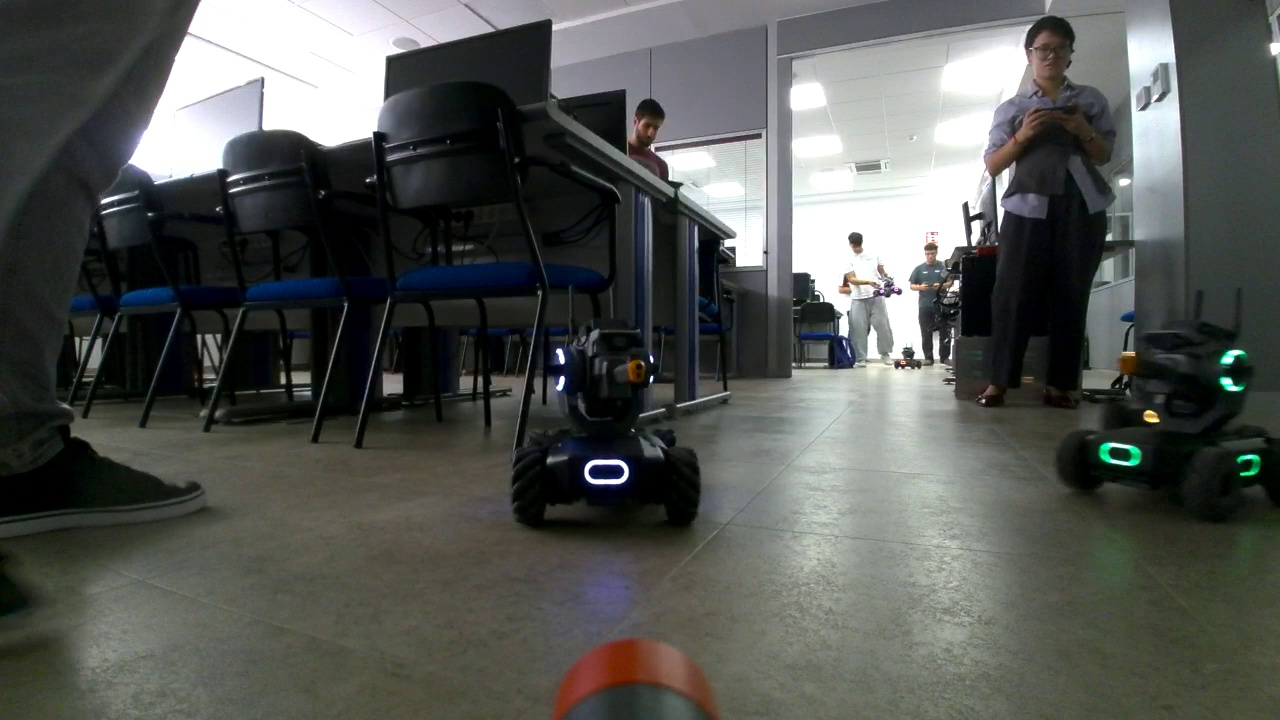robot: (1058, 282, 1280, 519), (509, 282, 702, 524), (871, 270, 903, 298), (893, 342, 923, 369)
